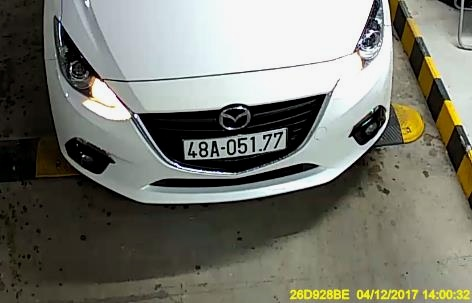plate: (179, 130, 292, 161)
